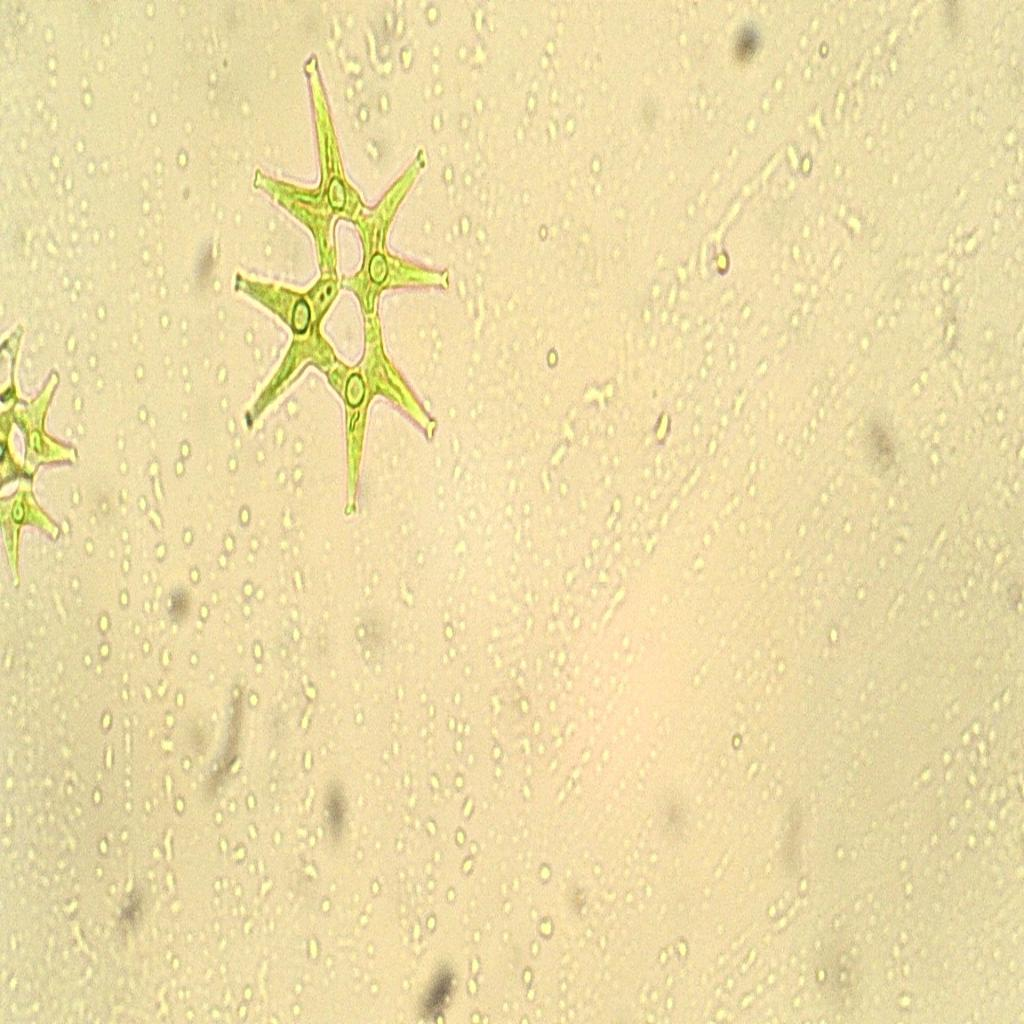Pediastrum_75FO: (224, 41, 456, 526)
